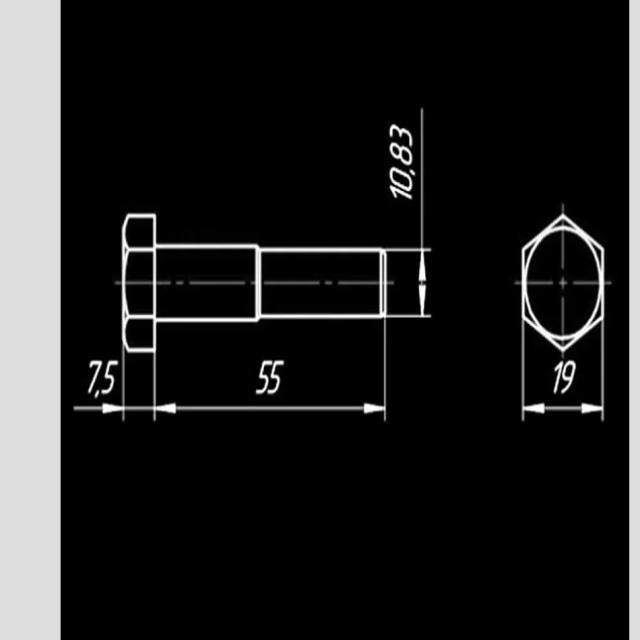marking_line: (151, 353, 389, 422), (520, 349, 609, 422), (72, 352, 127, 427), (388, 238, 426, 321)
numeric: (387, 166, 416, 191), (388, 122, 416, 147), (101, 357, 118, 394), (267, 358, 284, 395), (389, 139, 413, 165), (254, 358, 270, 394), (85, 358, 100, 392), (563, 359, 576, 395), (389, 186, 414, 203), (551, 356, 561, 397)
